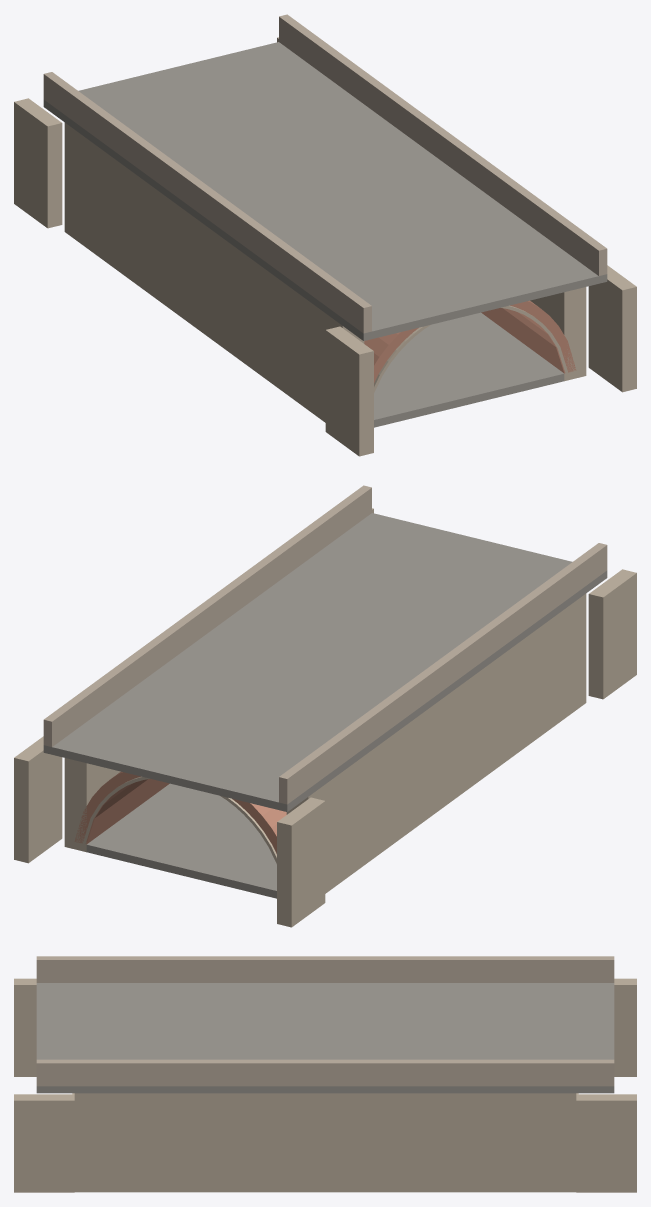
File: cp_driprock_arch.glb
The picture shows the model from 3 angles, top to bottom: view 1: azimuth 30°, elevation 25°; view 2: azimuth 150°, elevation 25°; view 3: azimuth 270°, elevation 25°; orthographic projection. The views are drawn at different scales.
Visible parts, largest first — view 1: DriprockArch; view 2: DriprockArch; view 3: DriprockArch.
Part boxes in pixels (x1,y1,x2,y2): DriprockArch: [14, 14, 636, 456]; DriprockArch: [14, 485, 636, 927]; DriprockArch: [14, 956, 636, 1192].
Size of the model in its own units: 11.43 by 5.61 by 24.61.
